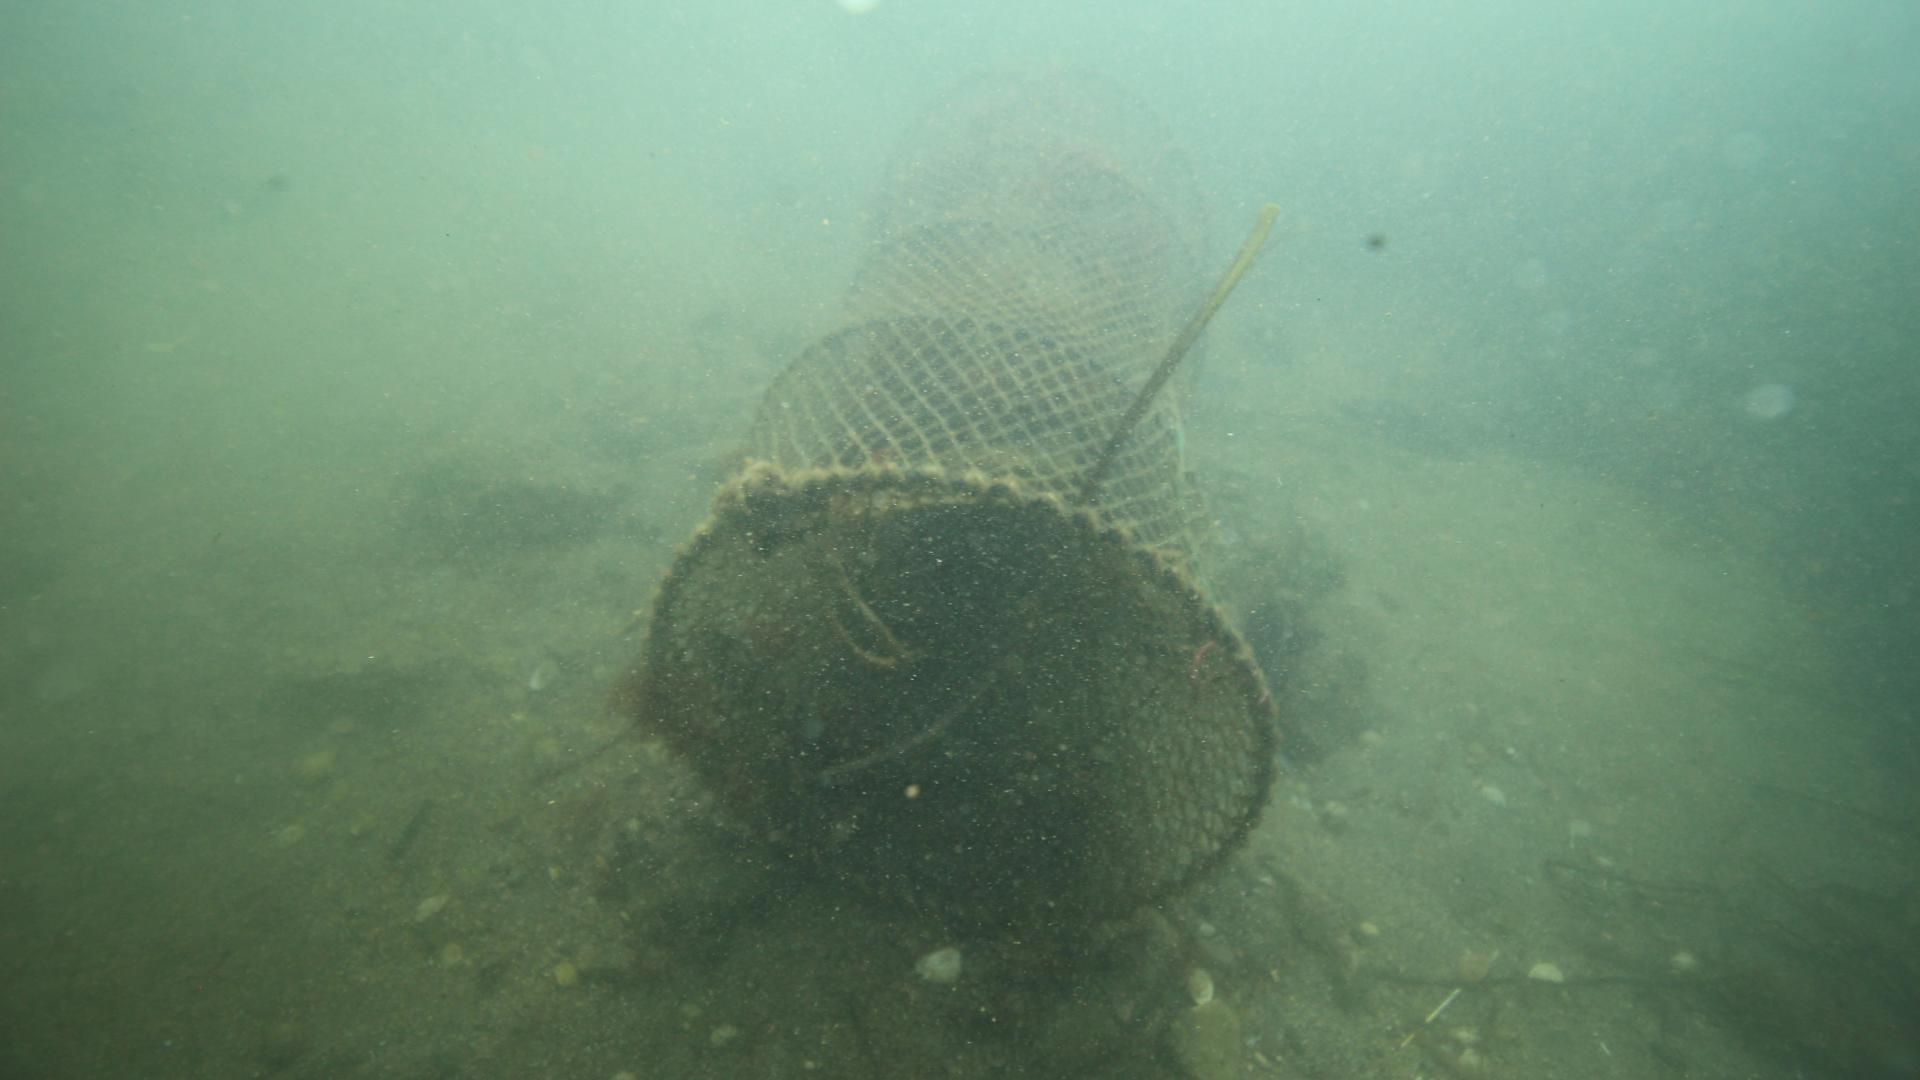spring fish trap: (644, 54, 1280, 934)
